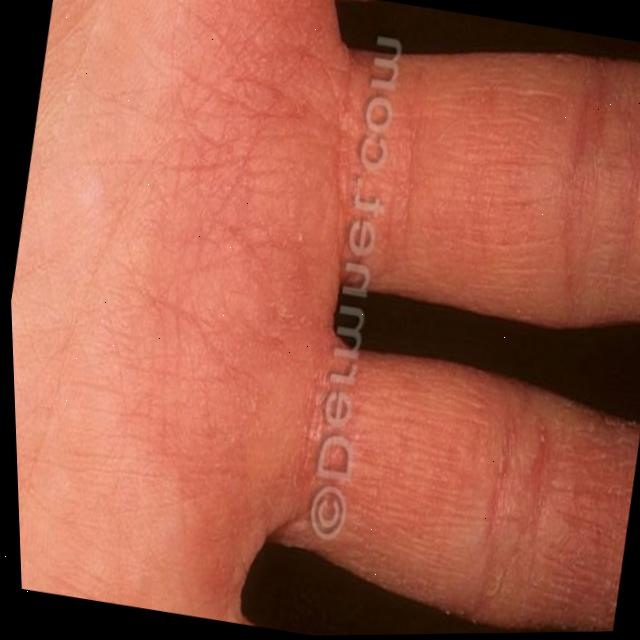Eczema: (91, 0, 640, 639)
